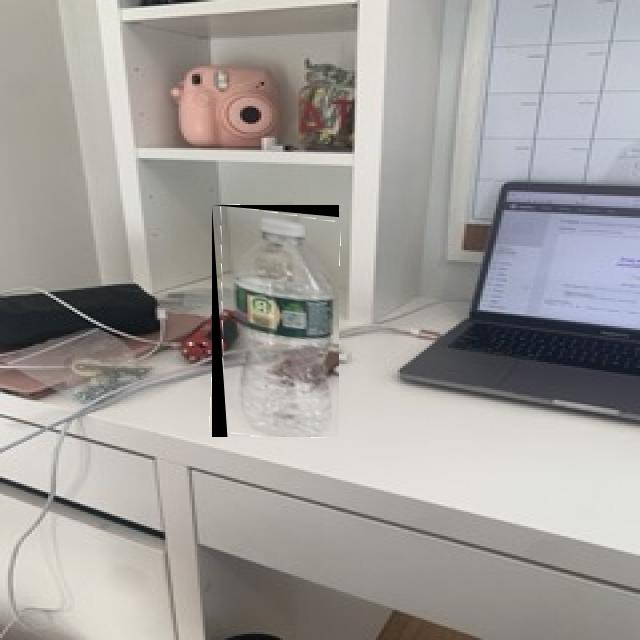water_bottle: (212, 205, 339, 437)
